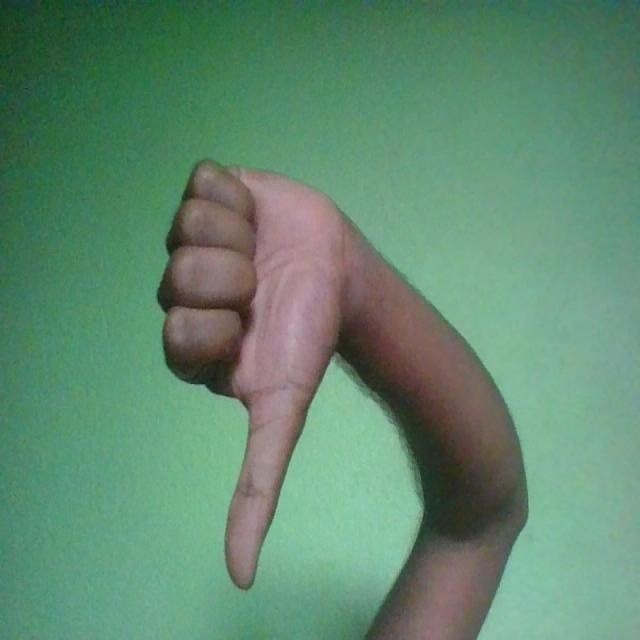Dislike: (158, 157, 355, 591)
